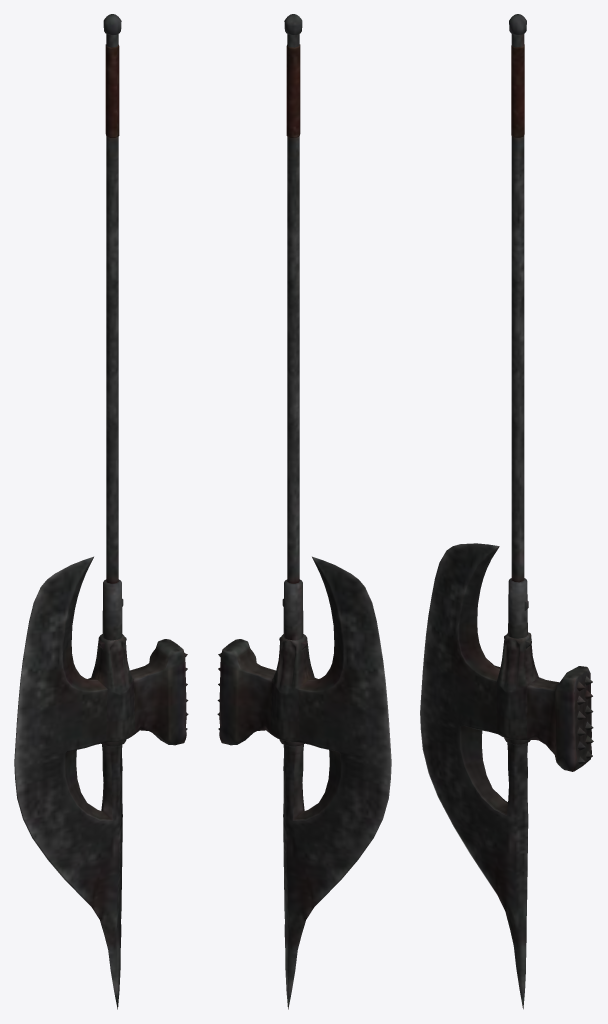
Rendered from weapon-wp_a_1005.glb.
The picture shows the model from 3 angles, left to right: view 1: azimuth 30°, elevation 25°; view 2: azimuth 150°, elevation 25°; view 3: azimuth 330°, elevation 25°; orthographic projection.
Visible parts, largest first — view 1: wp_a_1005_mesh; view 2: wp_a_1005_mesh; view 3: wp_a_1005_mesh.
Boxes of the visible parts, x1=… form: wp_a_1005_mesh: x1=14, y1=14, x2=188, y2=1009; wp_a_1005_mesh: x1=217, y1=14, x2=391, y2=1009; wp_a_1005_mesh: x1=420, y1=14, x2=593, y2=1009.
Size of the model in its own units: 0.4913 by 2.75 by 0.1019.
Materials: 1 (1 with a texture image).
